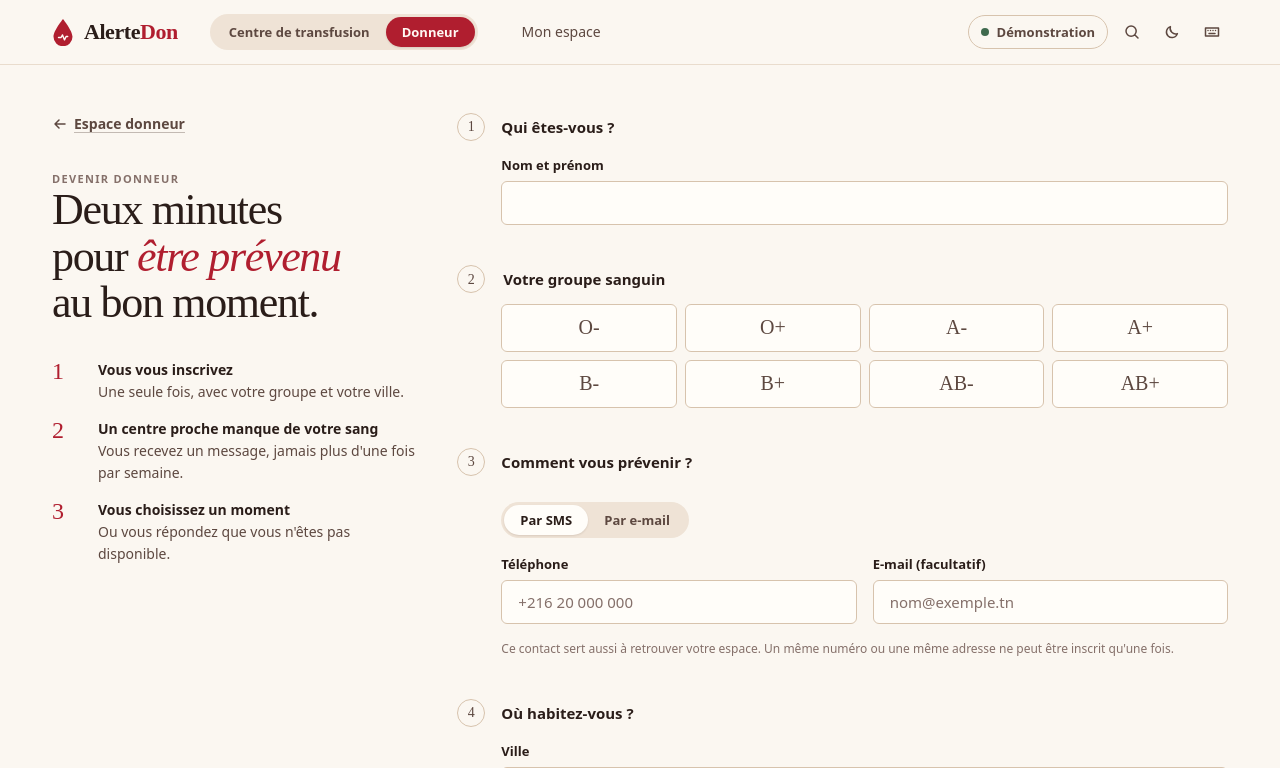
Scenario: donor space (UC1 and UC4 belong to the Donneur actor) › lets a person register and lands on their own space
In the field labelled "Nom et prénom": (865,203) [501,181,1228,225], type "Nadia Selmi"
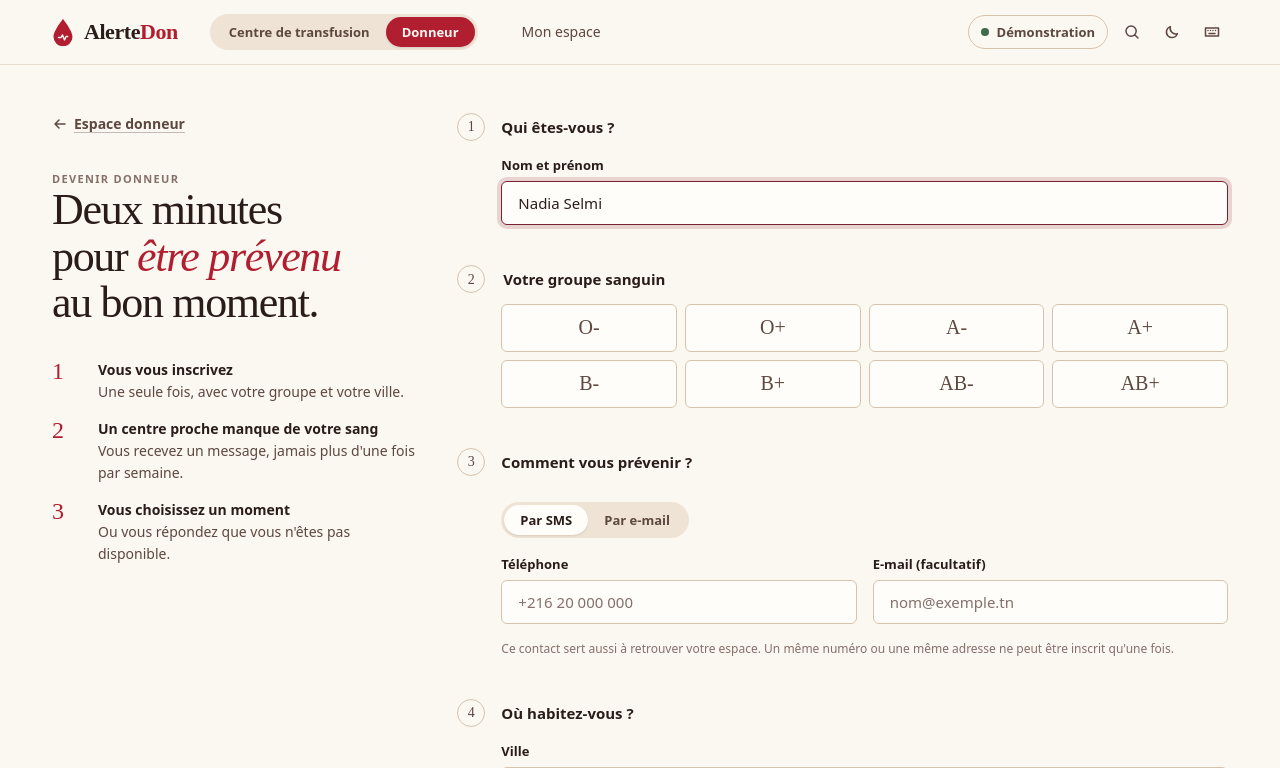
Click the radio button labelled "B+": (773,384) [685,360,861,408]
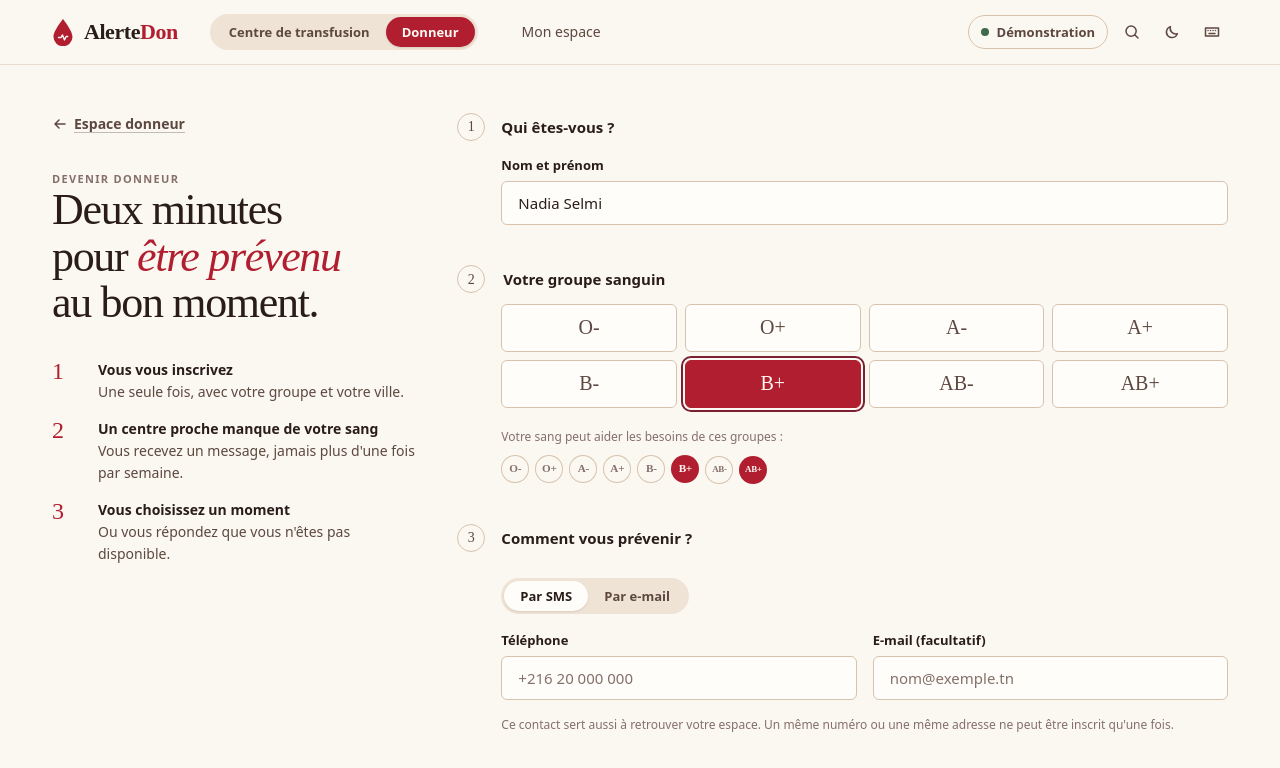
In the field labelled "Téléphone": (679,678) [501,656,857,700], type "+216 55 123 456"
(page scrolled)
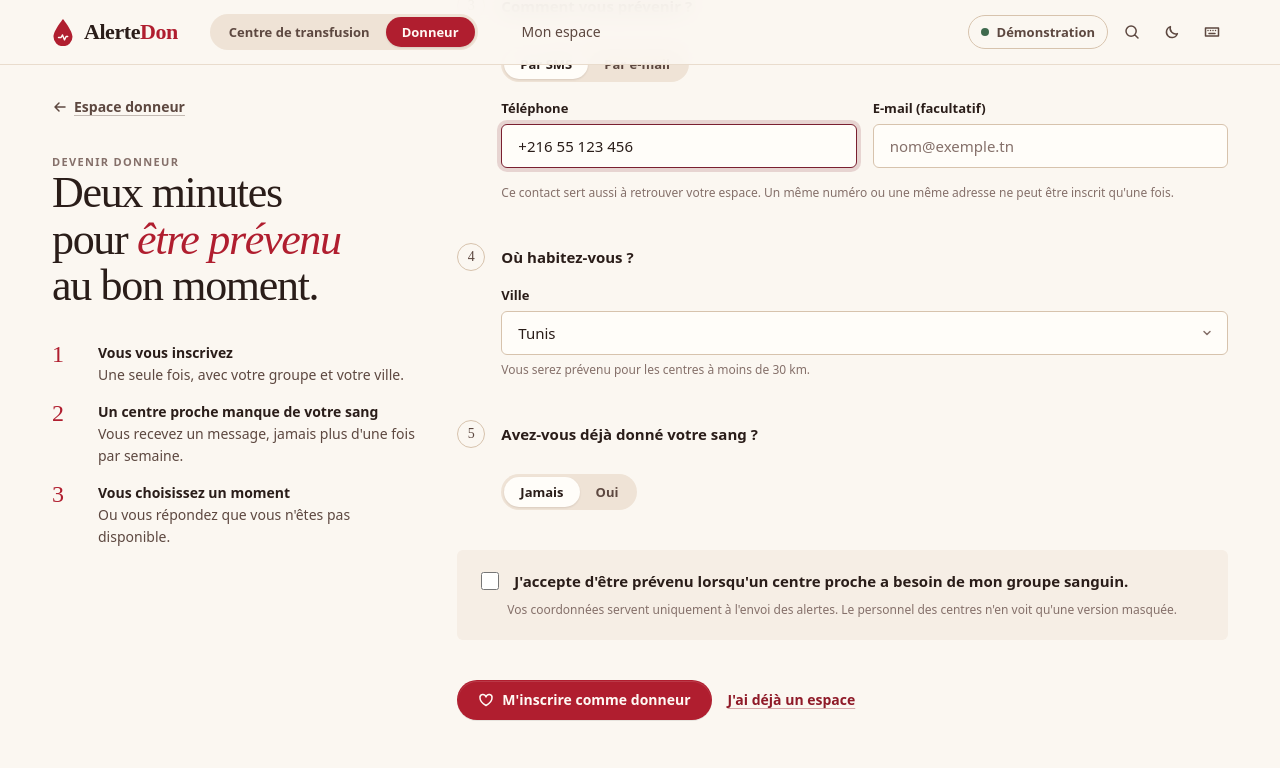
Click the checkbox: (490,581) [481,572,499,590]
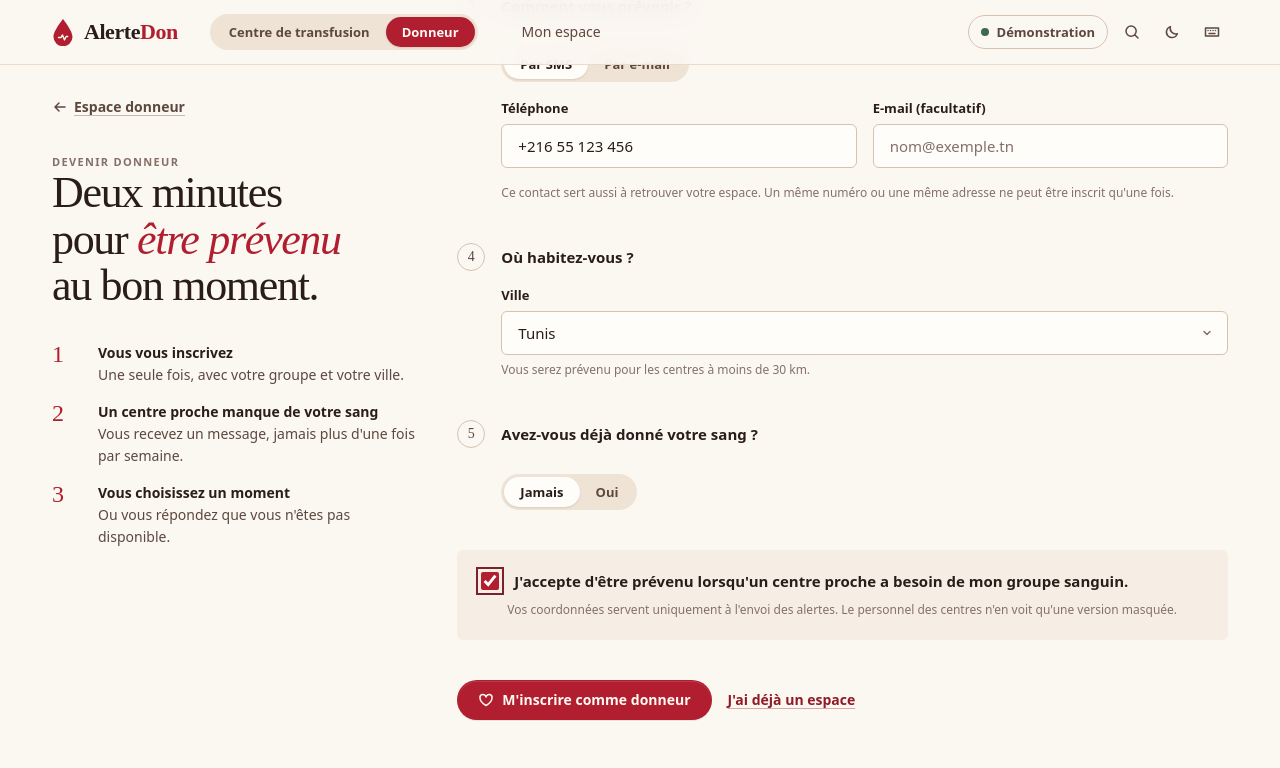
Click the button "M'inscrire comme donneur": (584,700) [457,680,712,720]
(page scrolled)
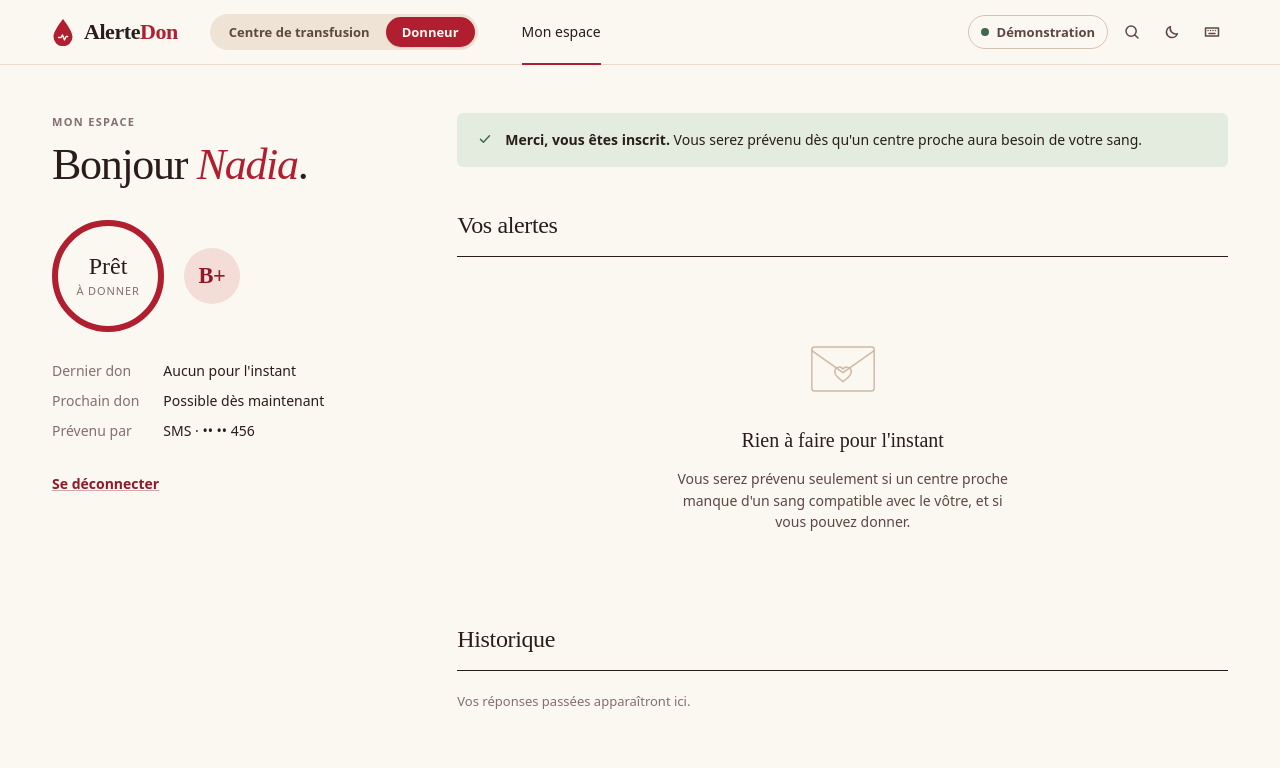
Check: the heading "Bonjour Nadia." is shown, box [52,140,307,189]
Check: the text "Merci, vous êtes inscrit." is shown, box [505,130,670,149]
